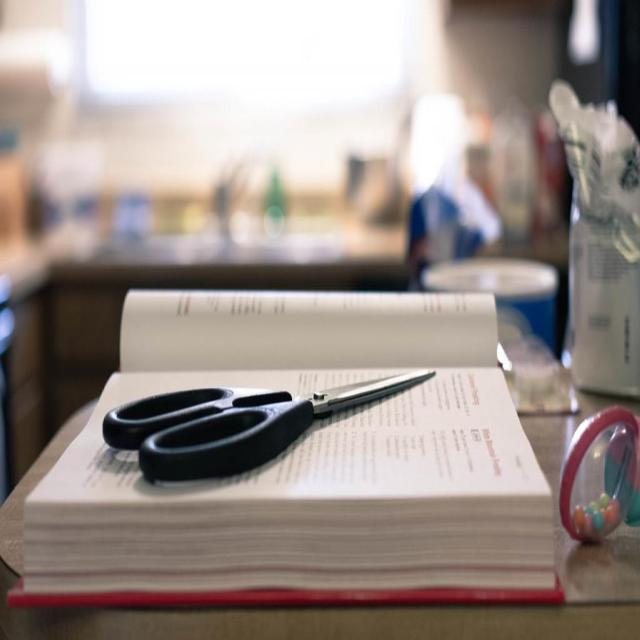scissor: (99, 373, 439, 480)
